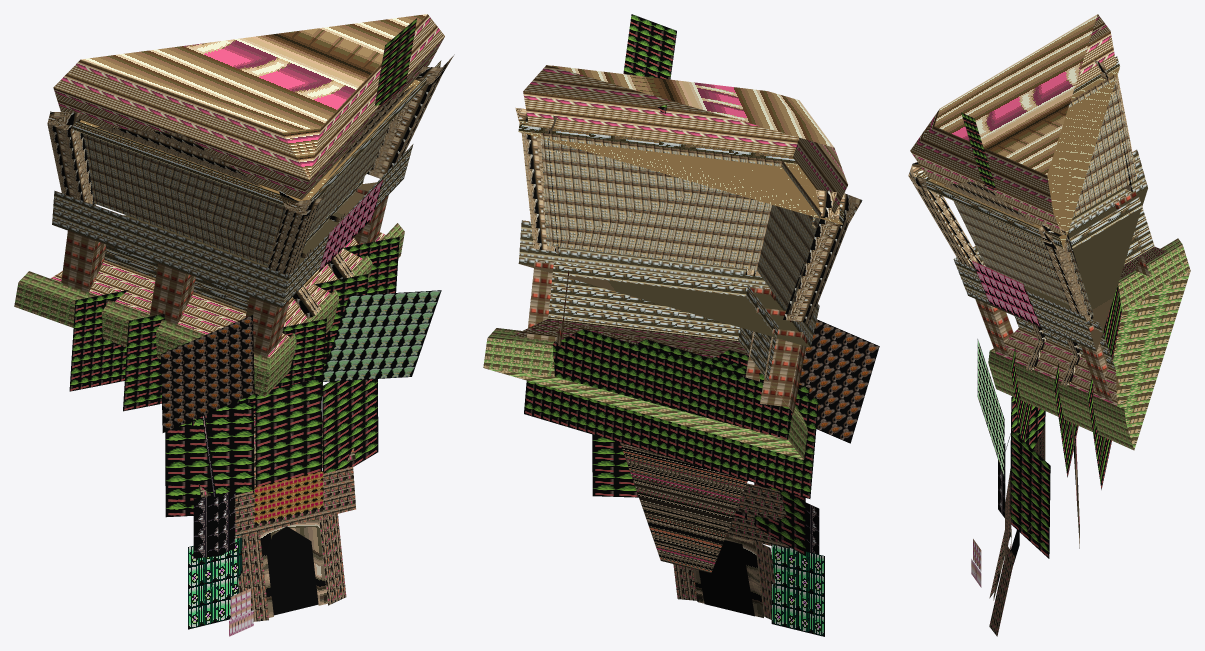
The model's file is tp_depart00.gltf.
3 renders of one model, left to right at view 1: azimuth 30°, elevation 25°; view 2: azimuth 150°, elevation 25°; view 3: azimuth 270°, elevation 25°, orthographic. The views are drawn at different scales.
Parts seen in each view (by area): view 1: tp_depart00; view 2: tp_depart00; view 3: tp_depart00.
Boxes of the visible parts, <box> form: tp_depart00: <box>14,14,454,636</box>; tp_depart00: <box>483,14,879,636</box>; tp_depart00: <box>908,14,1190,636</box>.
Bounding box in the file's own units: 2.97 × 4.29 × 2.01.
16 materials, 16 textured.
